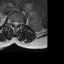CCS_normal: (15, 20, 16, 27)
LFS_normal: (18, 21, 20, 26)
LLS_normal: (16, 21, 18, 26)
RFS_normal: (11, 20, 13, 25)
RLS_normal: (13, 20, 15, 26)
